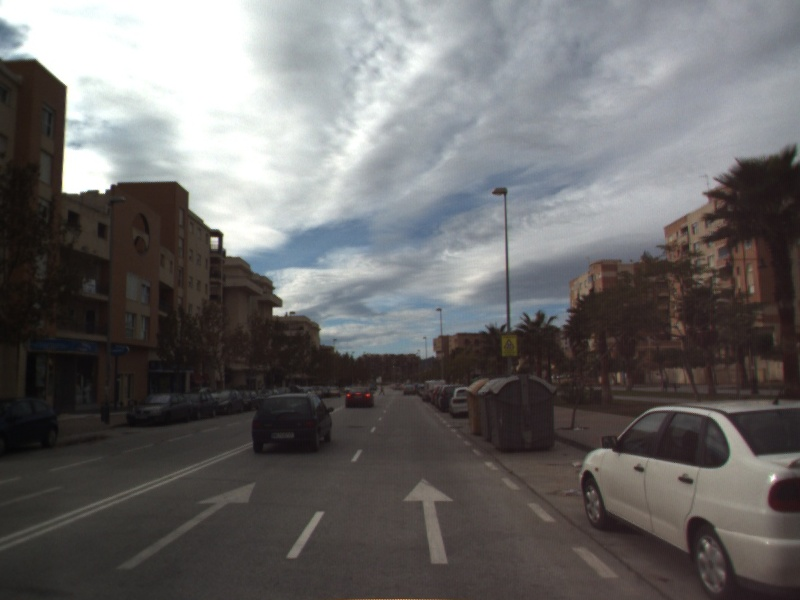STRAIGHT: (114, 480, 258, 572), (401, 475, 456, 567)
